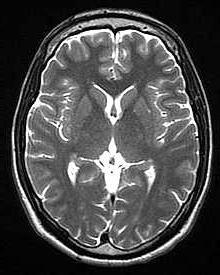Normal_Brain: (1, 14, 214, 266)
